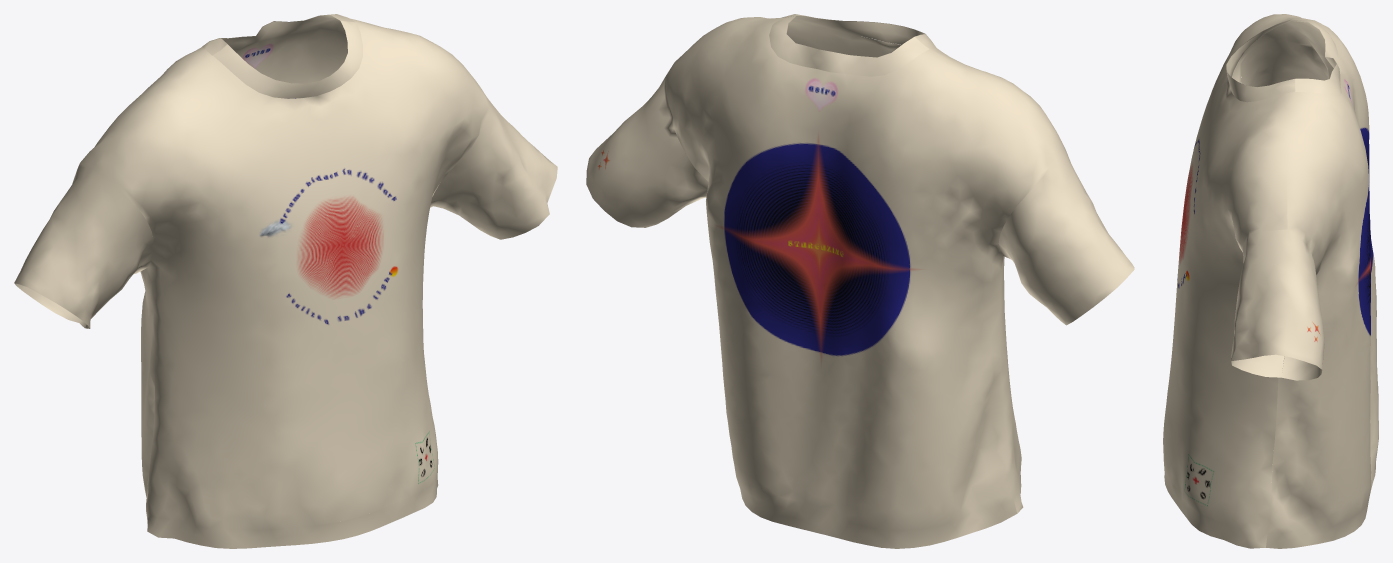
File: tee-v2.gltf
3 renders of one model, left to right at view 1: azimuth 30°, elevation 25°; view 2: azimuth 150°, elevation 25°; view 3: azimuth 270°, elevation 25°, orthographic. The views are drawn at different scales.
Visible parts, largest first — view 1: IN_THE_DARK_TEE_V1; view 2: IN_THE_DARK_TEE_V1; view 3: IN_THE_DARK_TEE_V1.
Boxes of the visible parts, x1,y1,x2,y2 form: IN_THE_DARK_TEE_V1: (14, 14, 557, 548); IN_THE_DARK_TEE_V1: (586, 14, 1134, 548); IN_THE_DARK_TEE_V1: (1163, 14, 1378, 548).
Size of the model in its own units: 7.46 by 6.4 by 2.76.
Materials: 1 (1 with a texture image).
